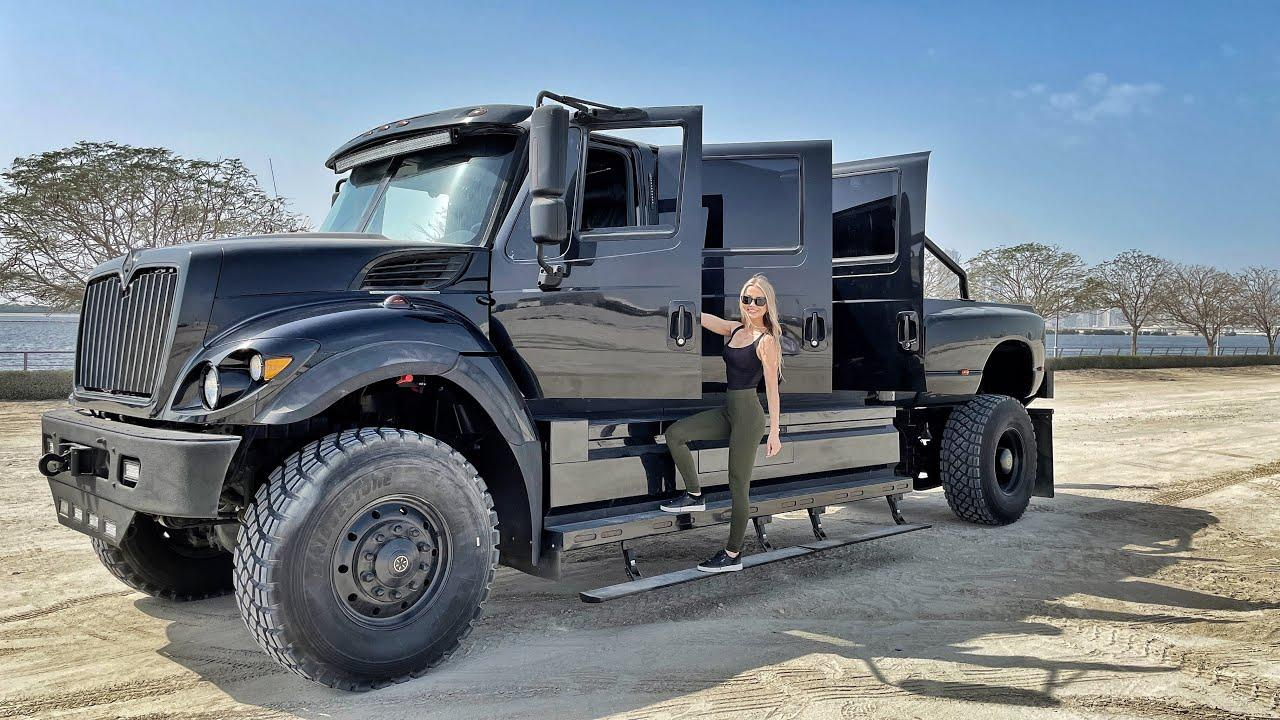truck: (43, 89, 1058, 691)
